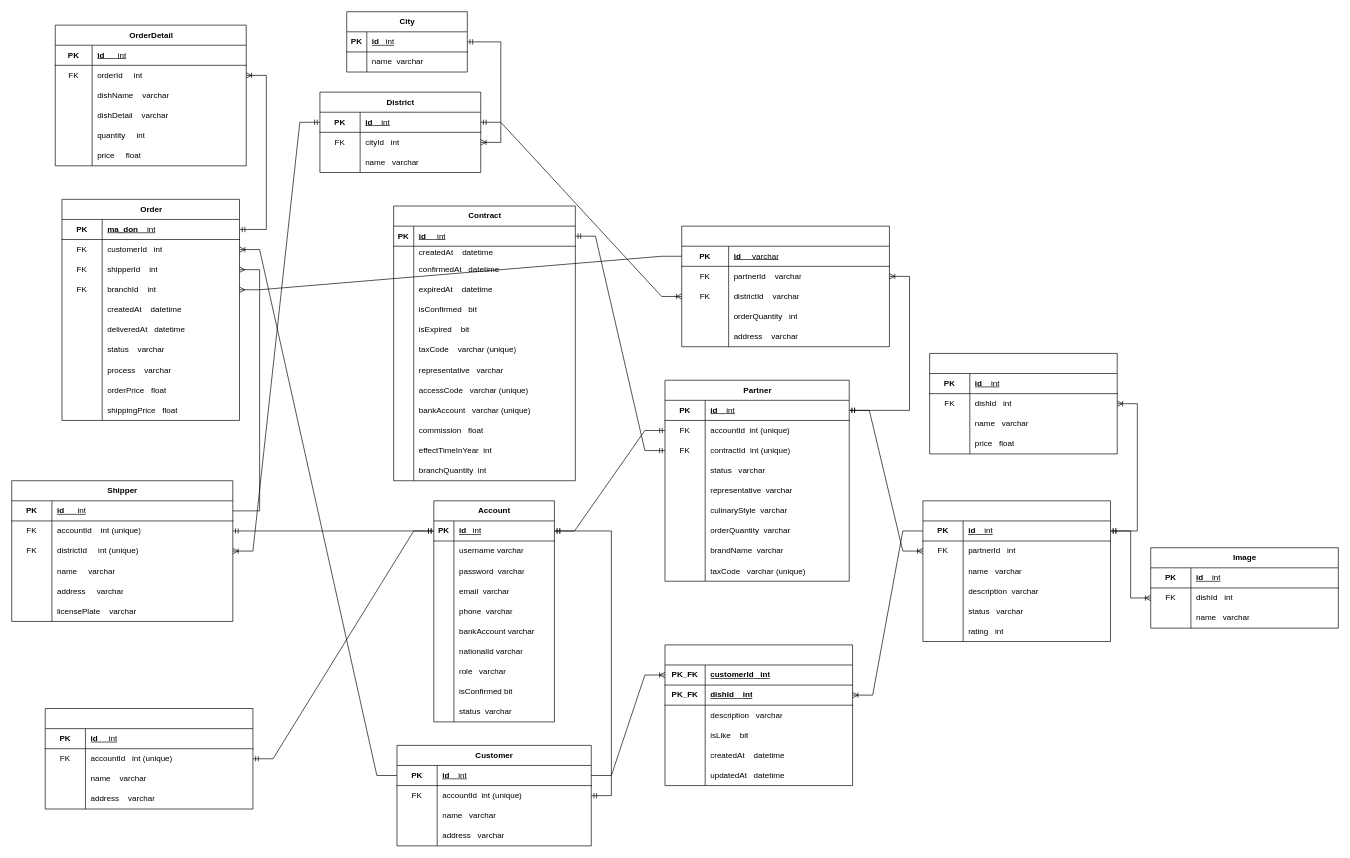
This 1350x858 diagram has some shape labels left out. Each missing label, with the box of its shape:
Branch: (681, 225, 889, 347)
Dish: (922, 500, 1111, 642)
DishDetail: (929, 353, 1117, 454)
Rating: (664, 644, 853, 786)
Staff: (45, 708, 253, 809)
